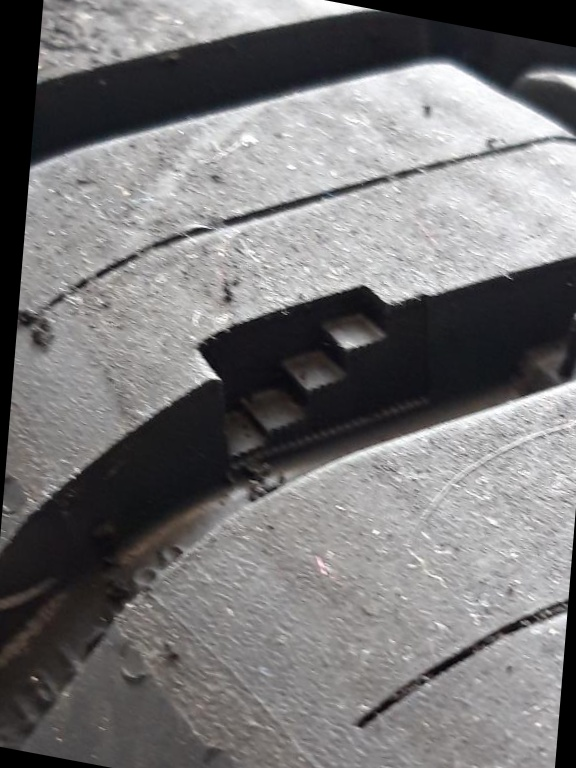temoin:95: (174, 232, 444, 530)
